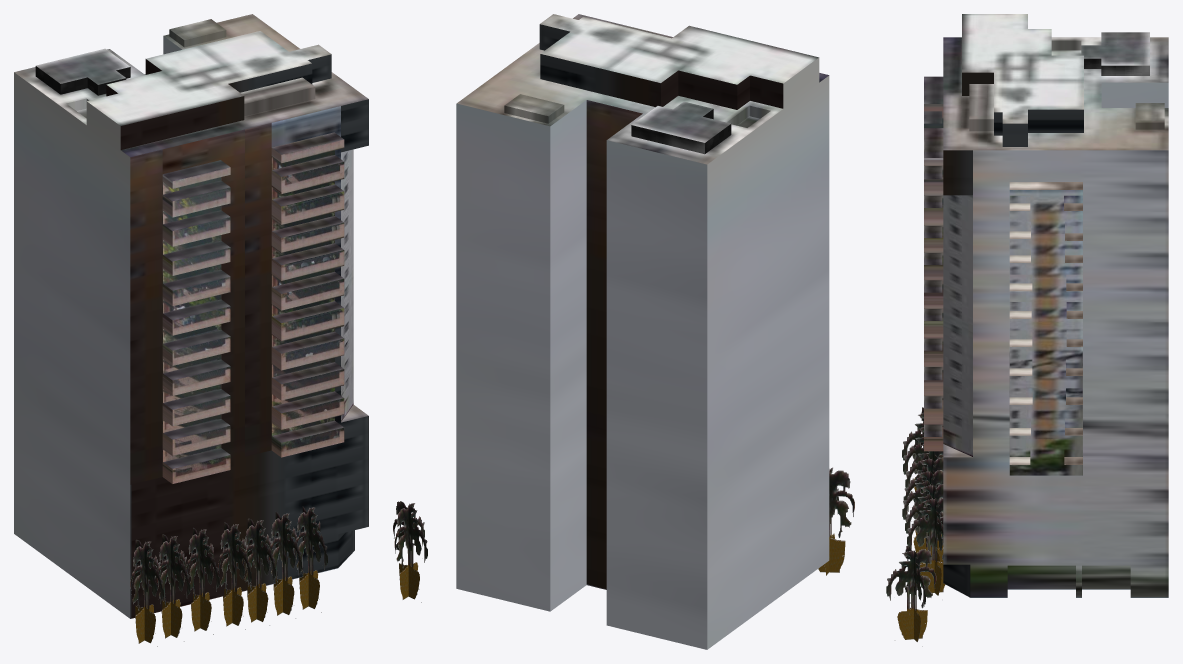
Rendered from edificio+recidencial+en+Normandia+(Cali).fbx.
3 renders of one model, left to right at view 1: azimuth 30°, elevation 25°; view 2: azimuth 150°, elevation 25°; view 3: azimuth 270°, elevation 25°, orthographic. The views are drawn at different scales.
Visible parts, largest first — view 1: Model, Group8, Group1, Group5, Group7, Group4, Group3, Group6, Group2; view 2: Model, Group8; view 3: Model, Group1, Group2, Group4, Group3, Group5, Group7.
Boxes of the visible parts, <box> form: Model: <box>14,14,368,618</box>; Group8: <box>130,539,163,646</box>; Group1: <box>393,501,427,602</box>; Group5: <box>218,522,251,629</box>; Group7: <box>157,534,190,641</box>; Group4: <box>242,518,275,625</box>; Group3: <box>269,512,302,618</box>; Group6: <box>186,527,219,634</box>; Group2: <box>294,506,327,612</box>; Model: <box>456,14,829,649</box>; Group8: <box>818,467,854,575</box>; Model: <box>924,14,1168,597</box>; Group1: <box>886,545,936,646</box>; Group2: <box>907,494,945,595</box>; Group4: <box>902,466,943,552</box>; Group3: <box>905,480,943,563</box>; Group5: <box>903,453,943,535</box>; Group7: <box>903,421,943,521</box>.
Size of the model in its own units: 3674 by 6050 by 3095.
